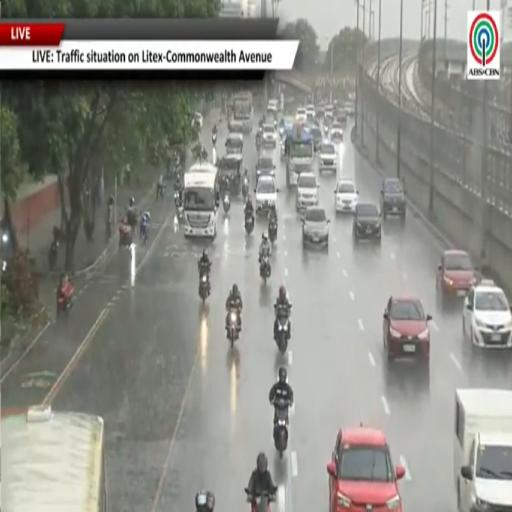bus: (0, 406, 108, 511), (183, 163, 218, 238), (230, 91, 253, 133)
car: (327, 426, 405, 511), (463, 280, 511, 348), (383, 296, 431, 362), (436, 249, 476, 298), (302, 206, 330, 250), (353, 202, 381, 243), (381, 178, 406, 219), (254, 175, 278, 214), (296, 172, 318, 211), (334, 179, 358, 213), (319, 140, 337, 172), (256, 154, 275, 180), (225, 133, 243, 154), (310, 125, 323, 152), (262, 123, 276, 147), (330, 122, 343, 142), (335, 110, 347, 129), (192, 112, 203, 129), (343, 102, 355, 116), (267, 100, 279, 114), (315, 102, 325, 118), (324, 105, 334, 121), (306, 105, 315, 122), (296, 107, 306, 122), (306, 105, 315, 117)
motorcycle: (273, 398, 289, 458), (276, 304, 291, 355), (245, 488, 275, 511), (57, 281, 74, 315), (227, 310, 239, 348), (199, 271, 210, 303), (119, 222, 132, 248), (48, 240, 59, 270), (260, 254, 270, 284), (268, 221, 277, 244), (140, 221, 148, 244), (222, 193, 231, 213), (245, 215, 254, 234), (176, 204, 184, 223), (242, 176, 248, 199), (156, 184, 165, 199), (256, 133, 261, 151), (174, 191, 179, 209), (212, 132, 217, 146), (278, 126, 284, 137), (324, 123, 329, 136), (274, 120, 278, 130)
tricycle: (57, 277, 74, 315)
truck: (454, 389, 511, 511), (285, 124, 314, 186)
